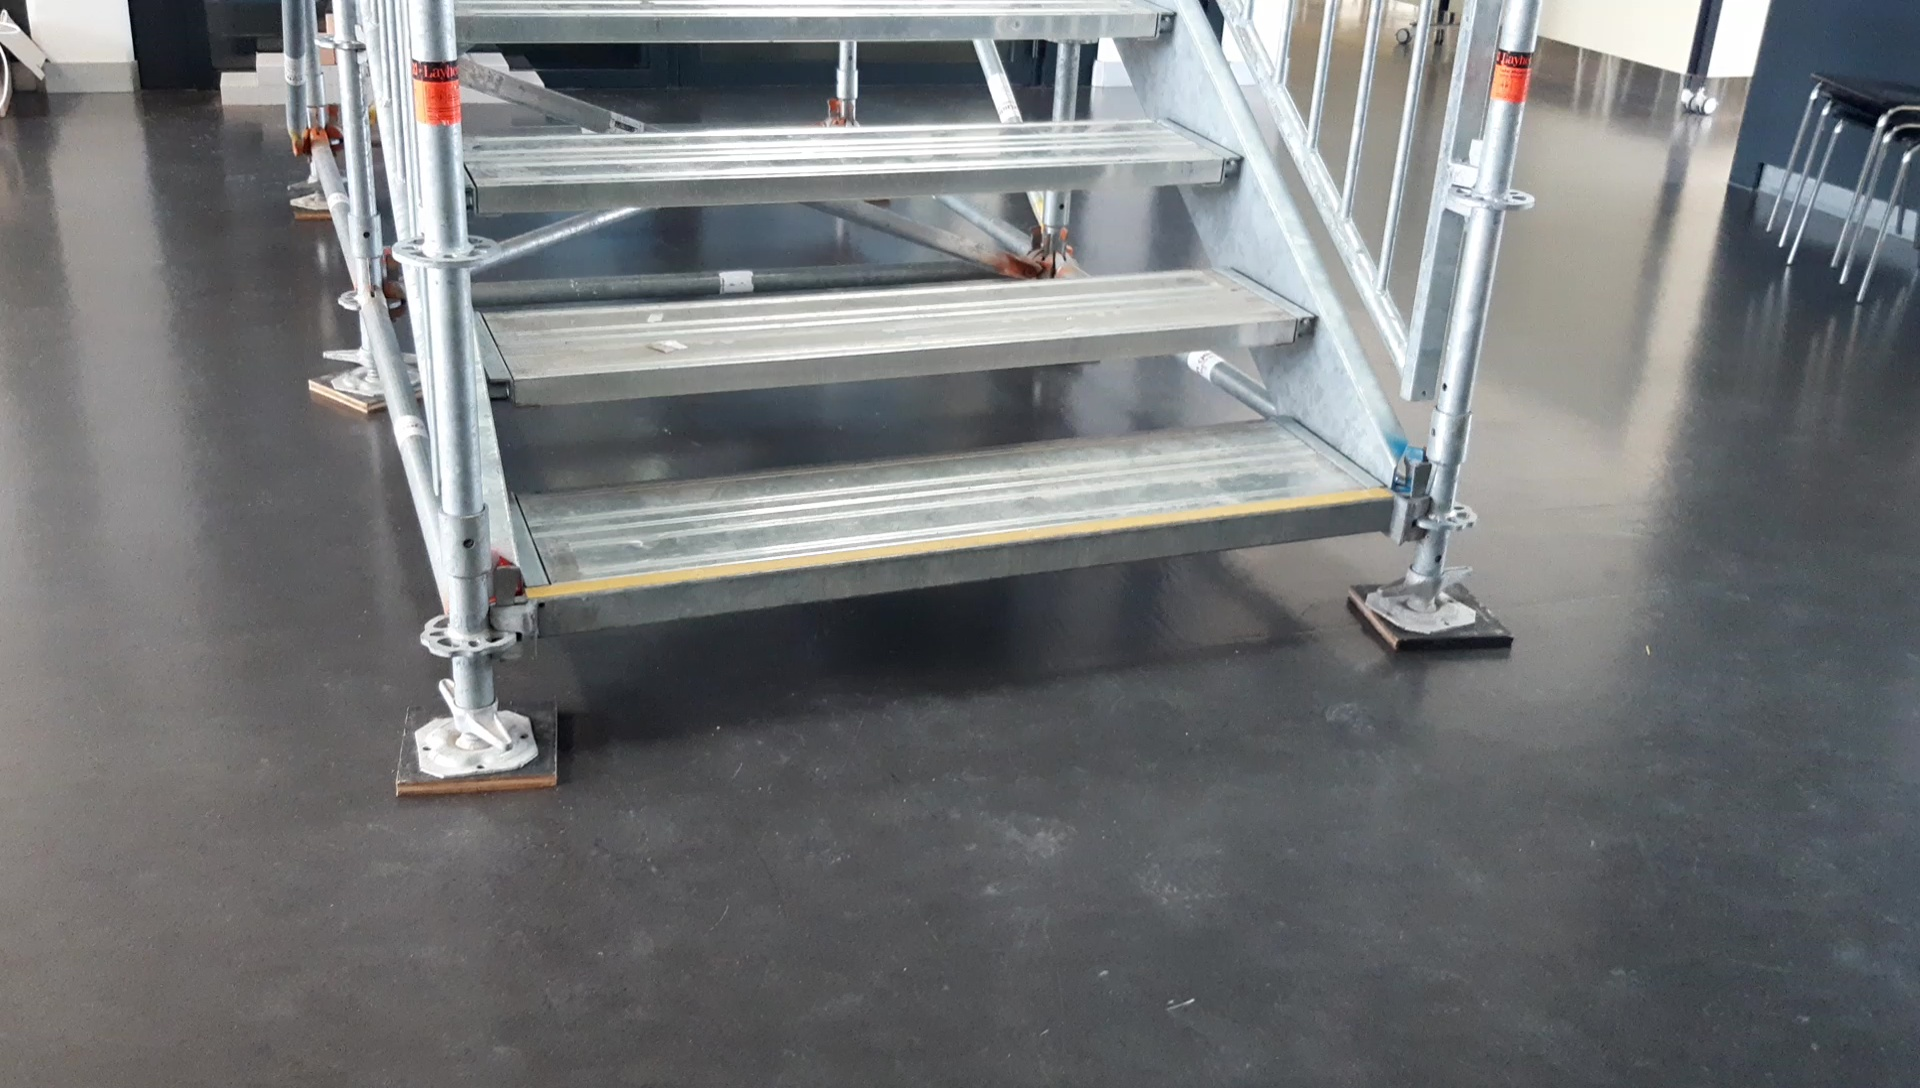edge: (539, 496, 1398, 642), (487, 313, 1317, 405), (469, 154, 1242, 214), (455, 11, 1174, 41)
stairs: (392, 3, 1516, 783)
